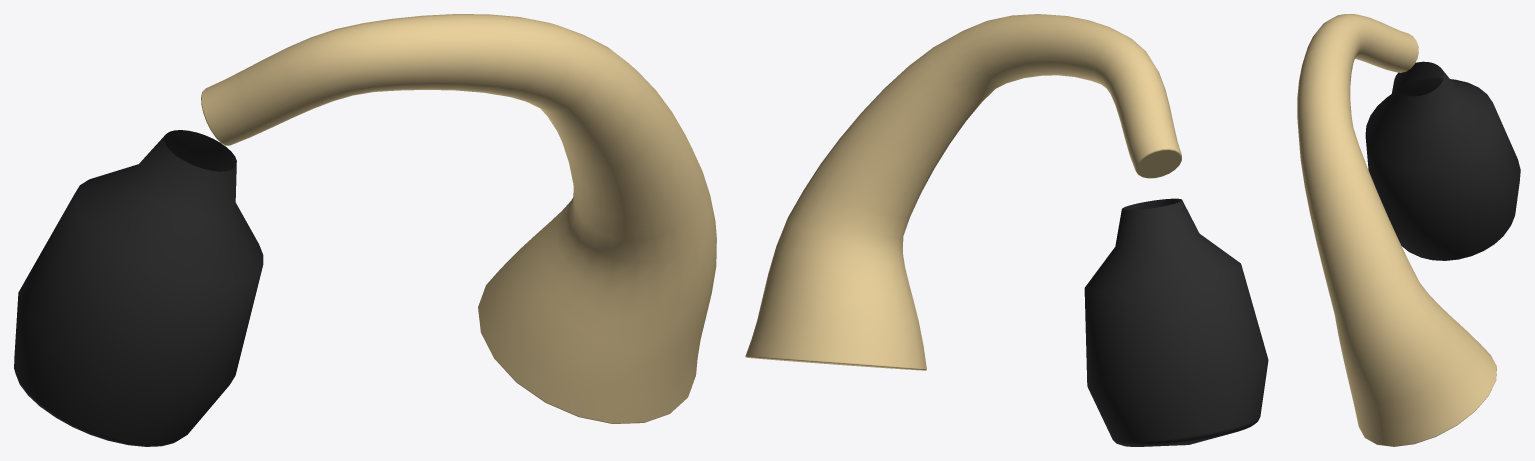
The model's file is bike_pioneer__horn.glb.
3 renders of one model, left to right at view 1: azimuth 30°, elevation 25°; view 2: azimuth 150°, elevation 25°; view 3: azimuth 270°, elevation 25°, orthographic. The views are drawn at different scales.
Visible parts, largest first — view 1: electrical__horn__trumpet, electrical__horn__bulb; view 2: electrical__horn__trumpet, electrical__horn__bulb; view 3: electrical__horn__trumpet, electrical__horn__bulb.
Boxes of the visible parts, left/top/right/bottom form: electrical__horn__trumpet: left=201, top=14, right=716, bottom=423; electrical__horn__bulb: left=14, top=130, right=263, bottom=446; electrical__horn__trumpet: left=745, top=14, right=1181, bottom=370; electrical__horn__bulb: left=1084, top=198, right=1268, bottom=446; electrical__horn__trumpet: left=1297, top=14, right=1496, bottom=446; electrical__horn__bulb: left=1365, top=61, right=1520, bottom=260.
Size of the model in its own units: 19.12 by 13.7 by 8.77.
